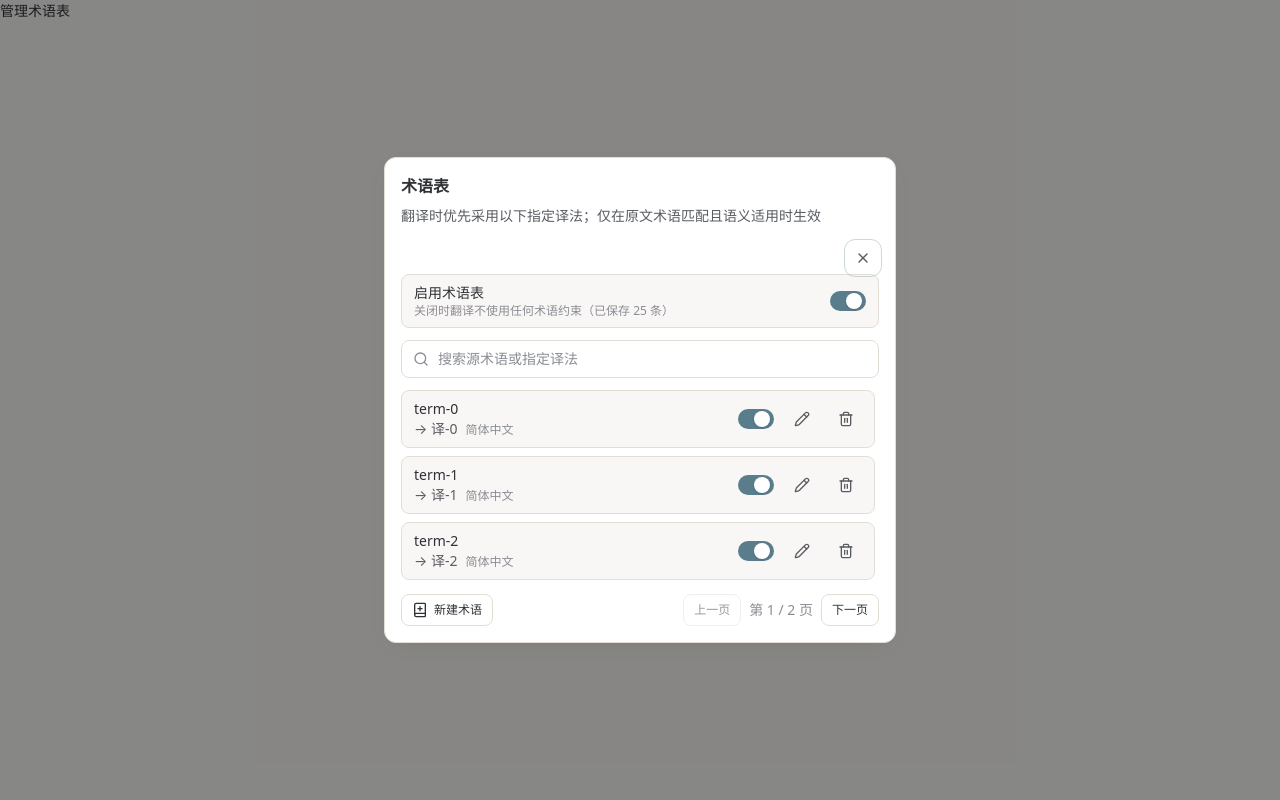
Test: TermbaseDialog › paginates long lists at 20 entries per page
The width and height of the screenshot is (1280, 800).
Expected: the text "term-0" is shown, [414,399,458,418]
Expected: the text "term-24" is not shown
Click the button "下一页": (850, 610) [821,594,879,626]
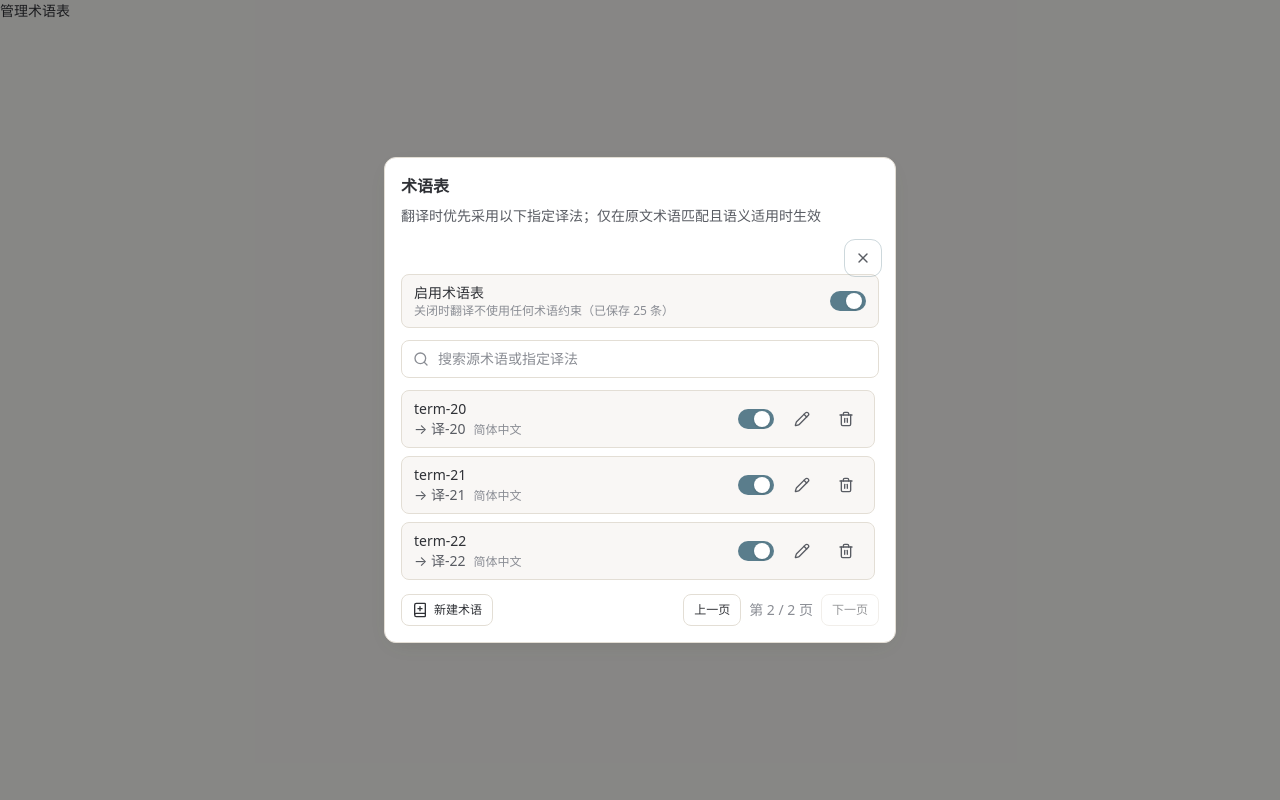
Expected: the text "term-0" is gone
Click the button "上一页": (712, 610) [683,594,741,626]
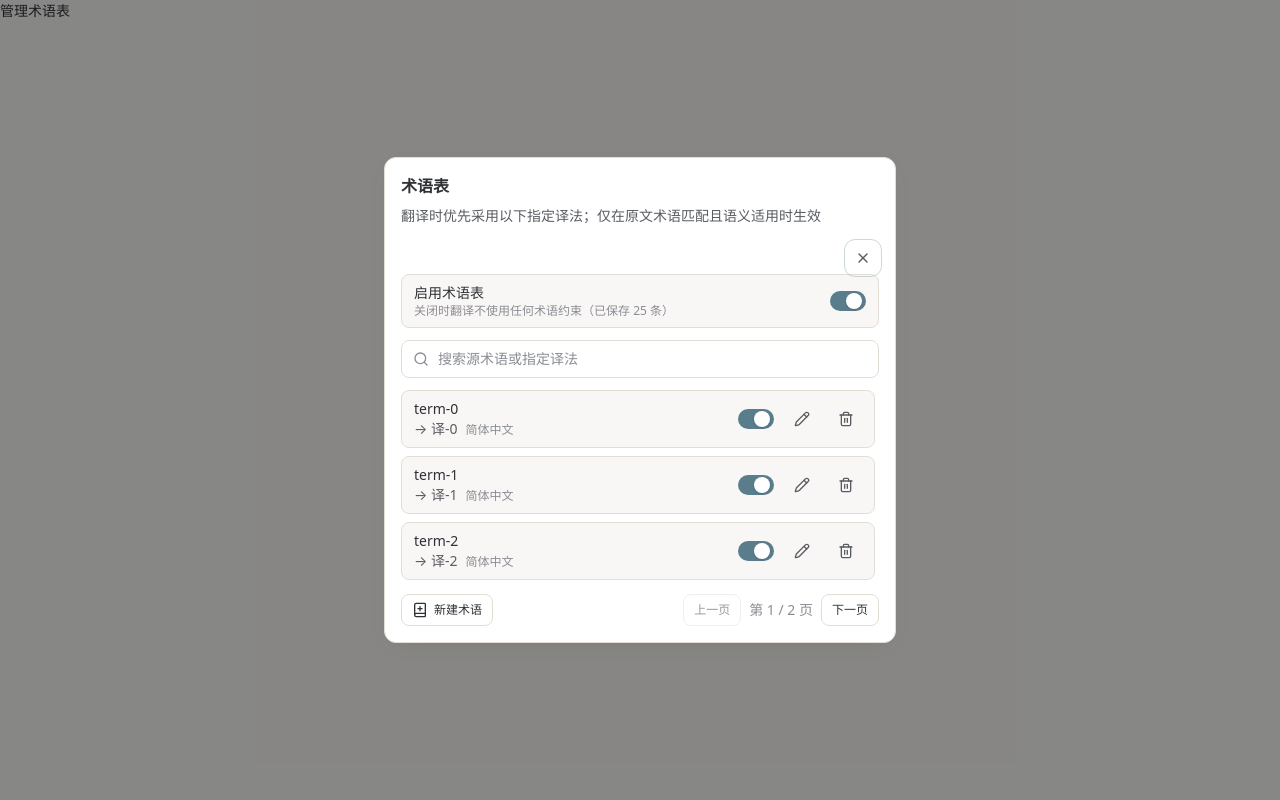
Expected: the text "term-0" is shown, [414,399,458,418]
